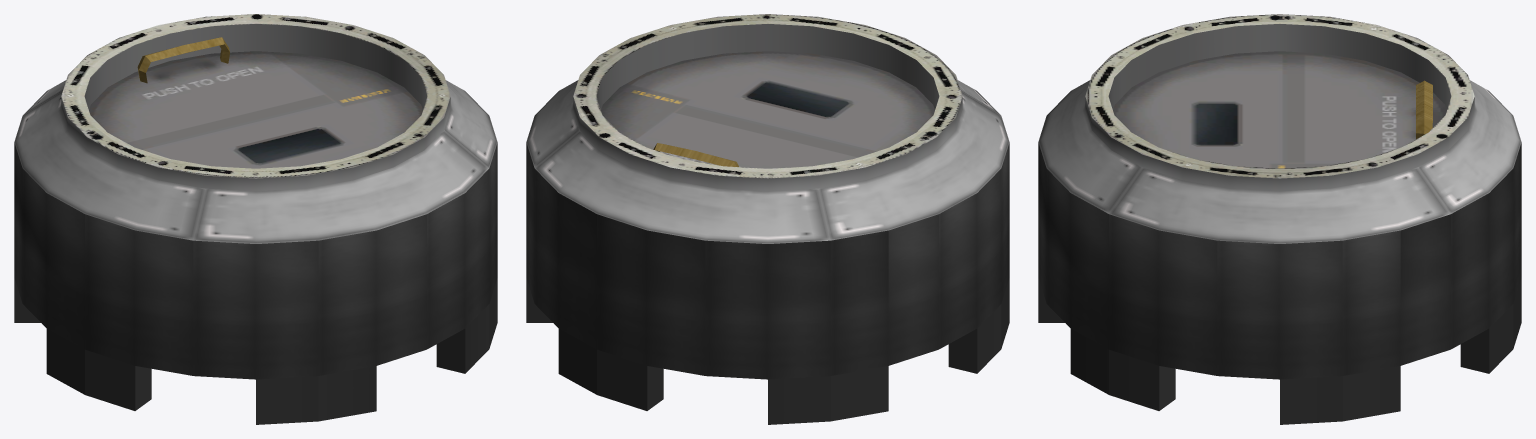
The model's file is Mk1RadialDockingPort.FBX.
The picture shows the model from 3 angles, left to right: view 1: azimuth 30°, elevation 25°; view 2: azimuth 150°, elevation 25°; view 3: azimuth 270°, elevation 25°; orthographic projection.
Visible parts, largest first — view 1: MainBody, HatchHandle; view 2: MainBody, cap, HatchHandle; view 3: MainBody, cap, HatchHandle.
Boxes of the visible parts, left/top/right/bottom form: MainBody: left=14, top=14, right=497, bottom=424; HatchHandle: left=137, top=37, right=229, bottom=83; MainBody: left=526, top=14, right=1009, bottom=424; cap: left=526, top=142, right=888, bottom=326; HatchHandle: left=653, top=143, right=738, bottom=166; MainBody: left=1038, top=14, right=1521, bottom=424; cap: left=1400, top=142, right=1521, bottom=312; HatchHandle: left=1416, top=80, right=1432, bottom=138.
Size of what is drawn, in the model's own units: 0.625 by 0.3233 by 0.625.
1 material, 1 textured.
